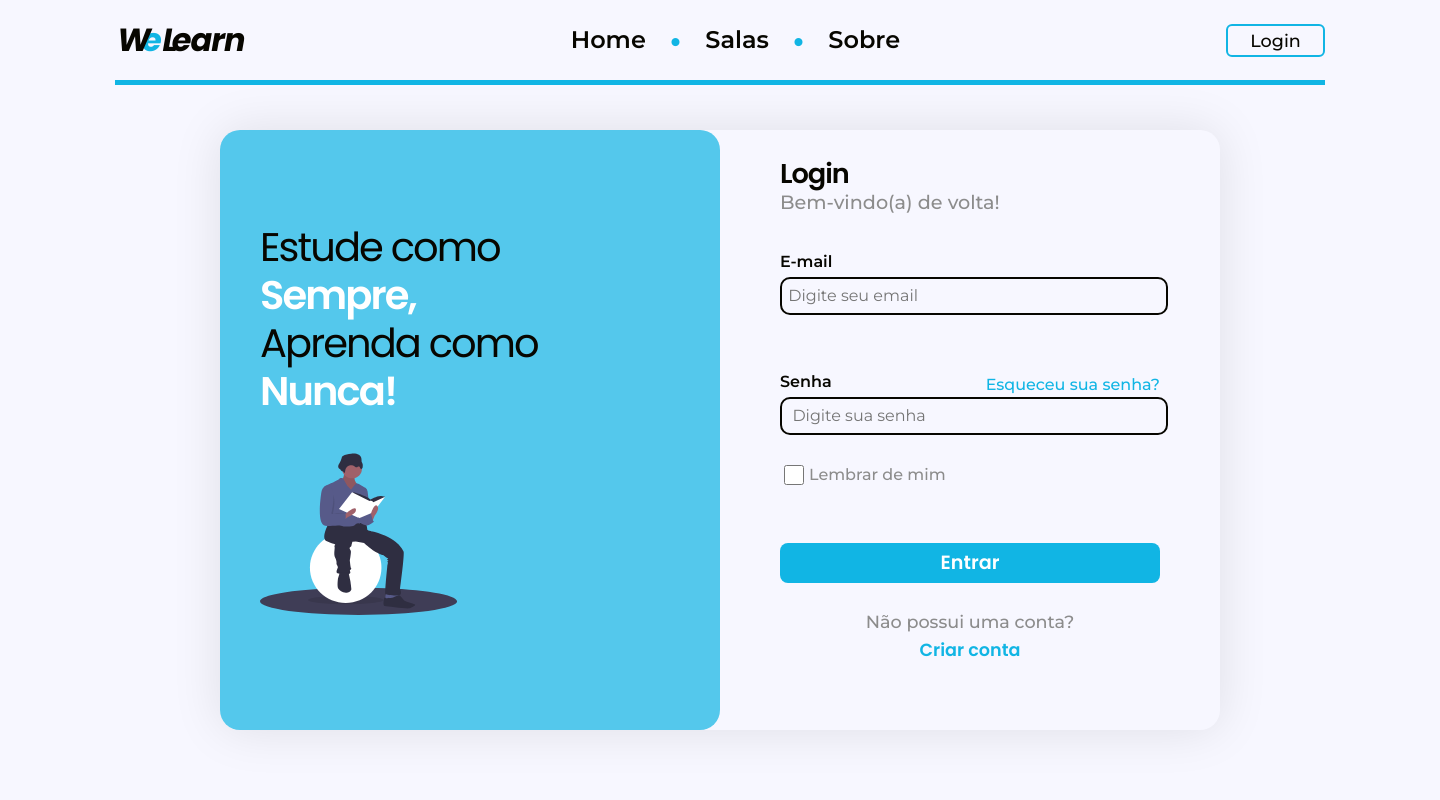
Test: Login Page › should display error on invalid email
Simula um e-mail inválido
Step 1. Type "invalid-email" into the field with placeholder " Digite seu email" → (974, 296), box 780,277 -> 1168,315
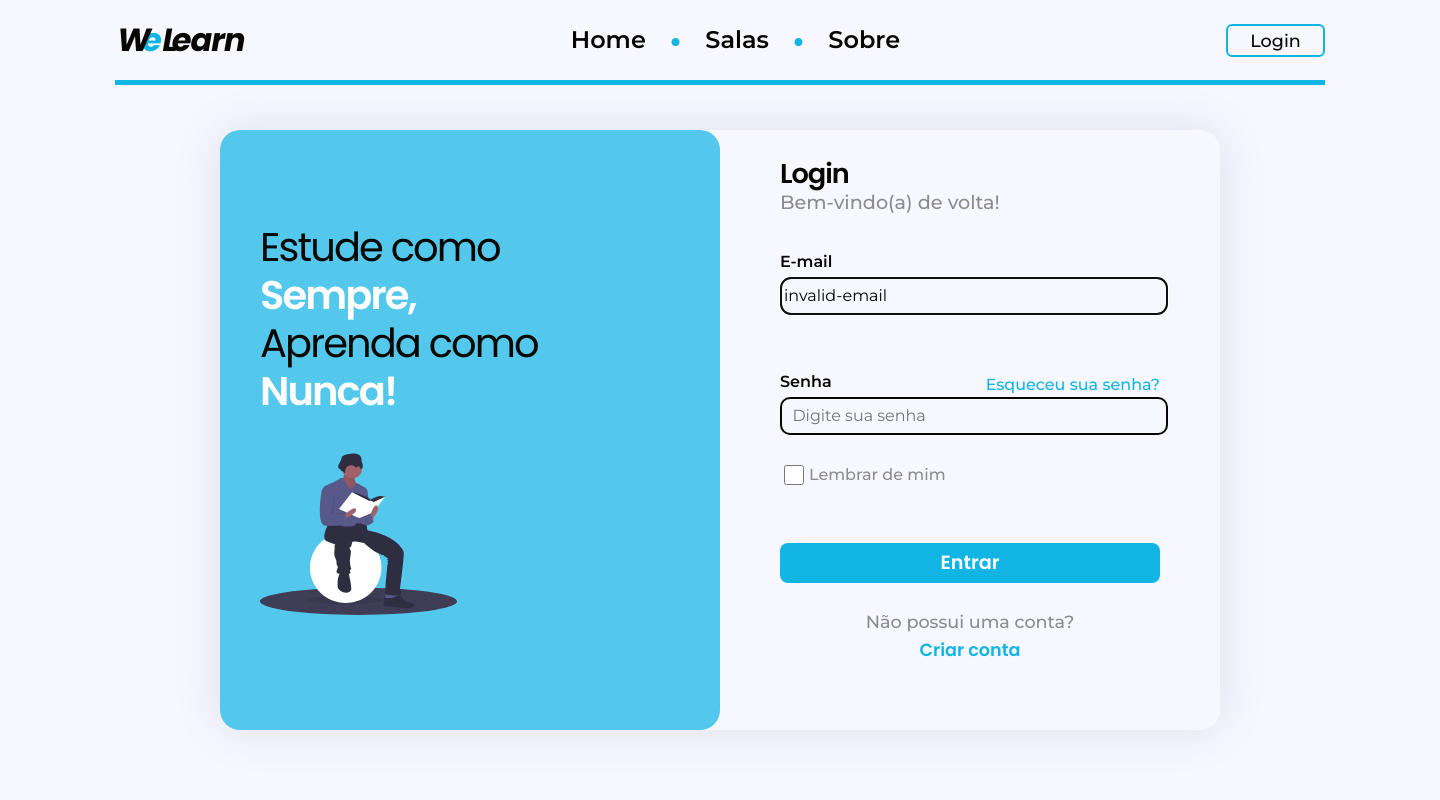
Step 2. Type "password123" into the password field with placeholder " Digite sua senha" → (974, 416), box 780,397 -> 1168,435
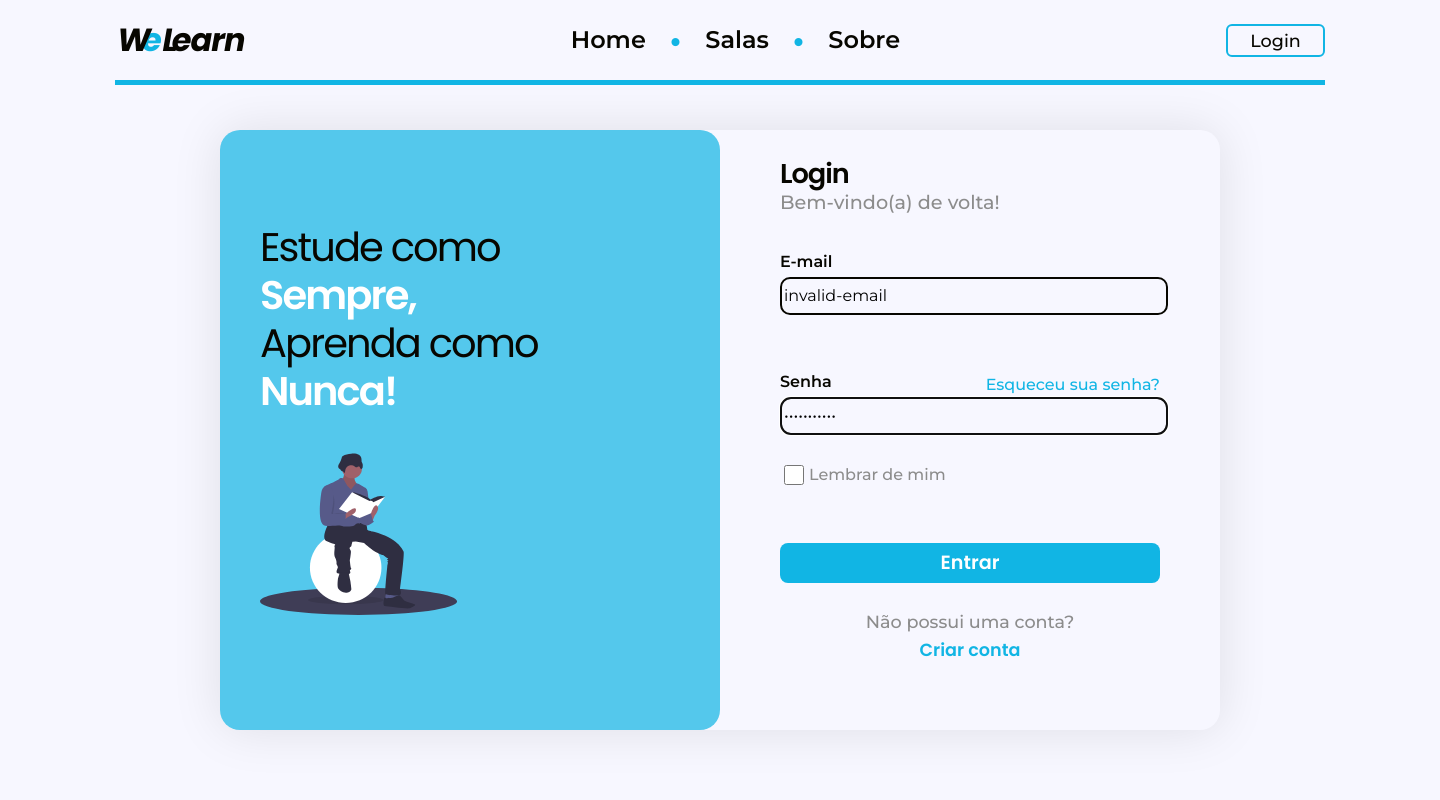
Step 3. Click the button "Entrar" → (970, 563), box 780,543 -> 1160,583
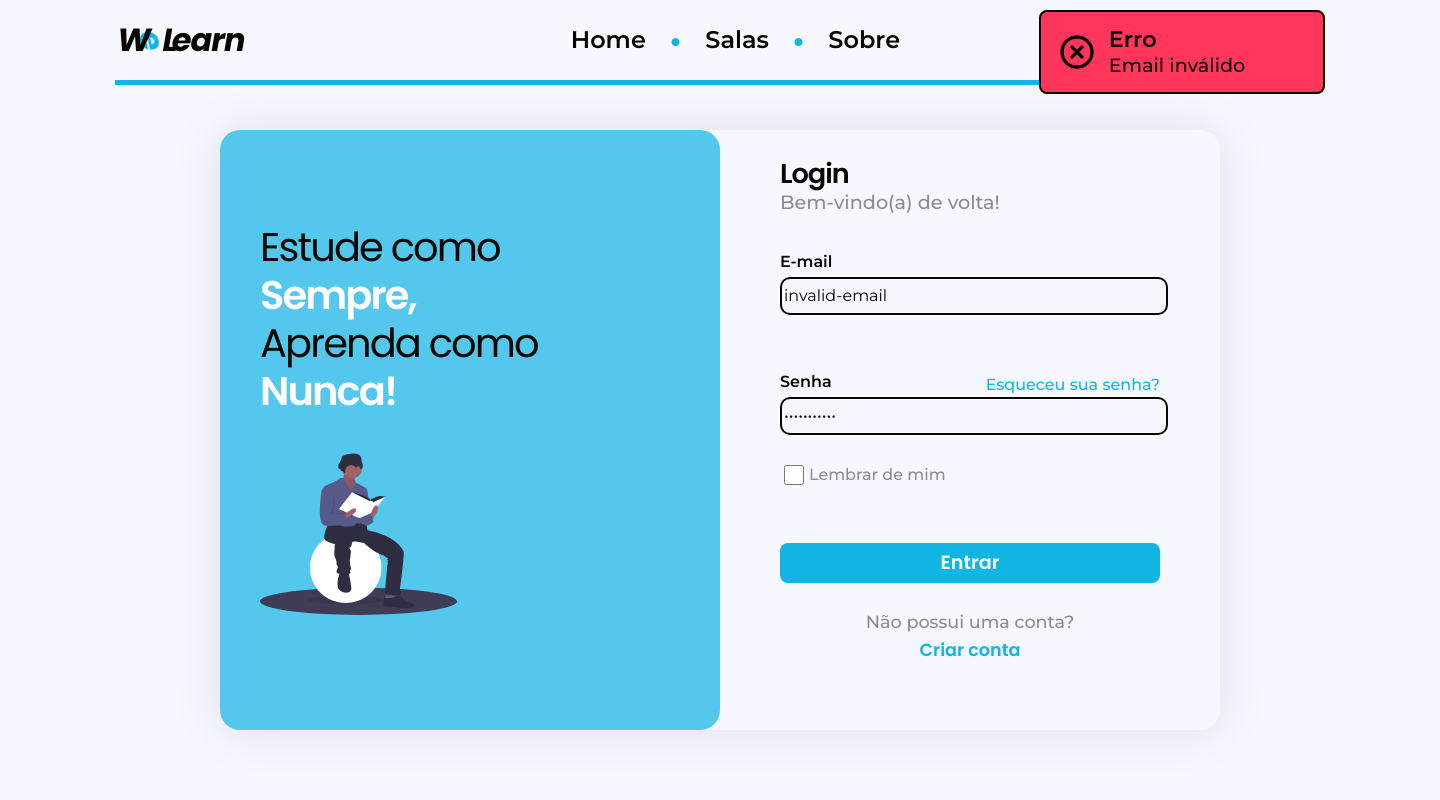
Expected: the text "Email inválido" is shown, 1109,56 -> 1245,76
